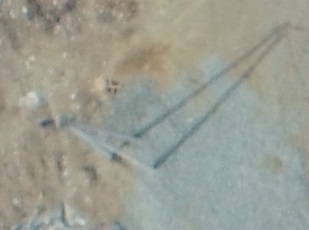opora: (54, 110, 183, 173)
